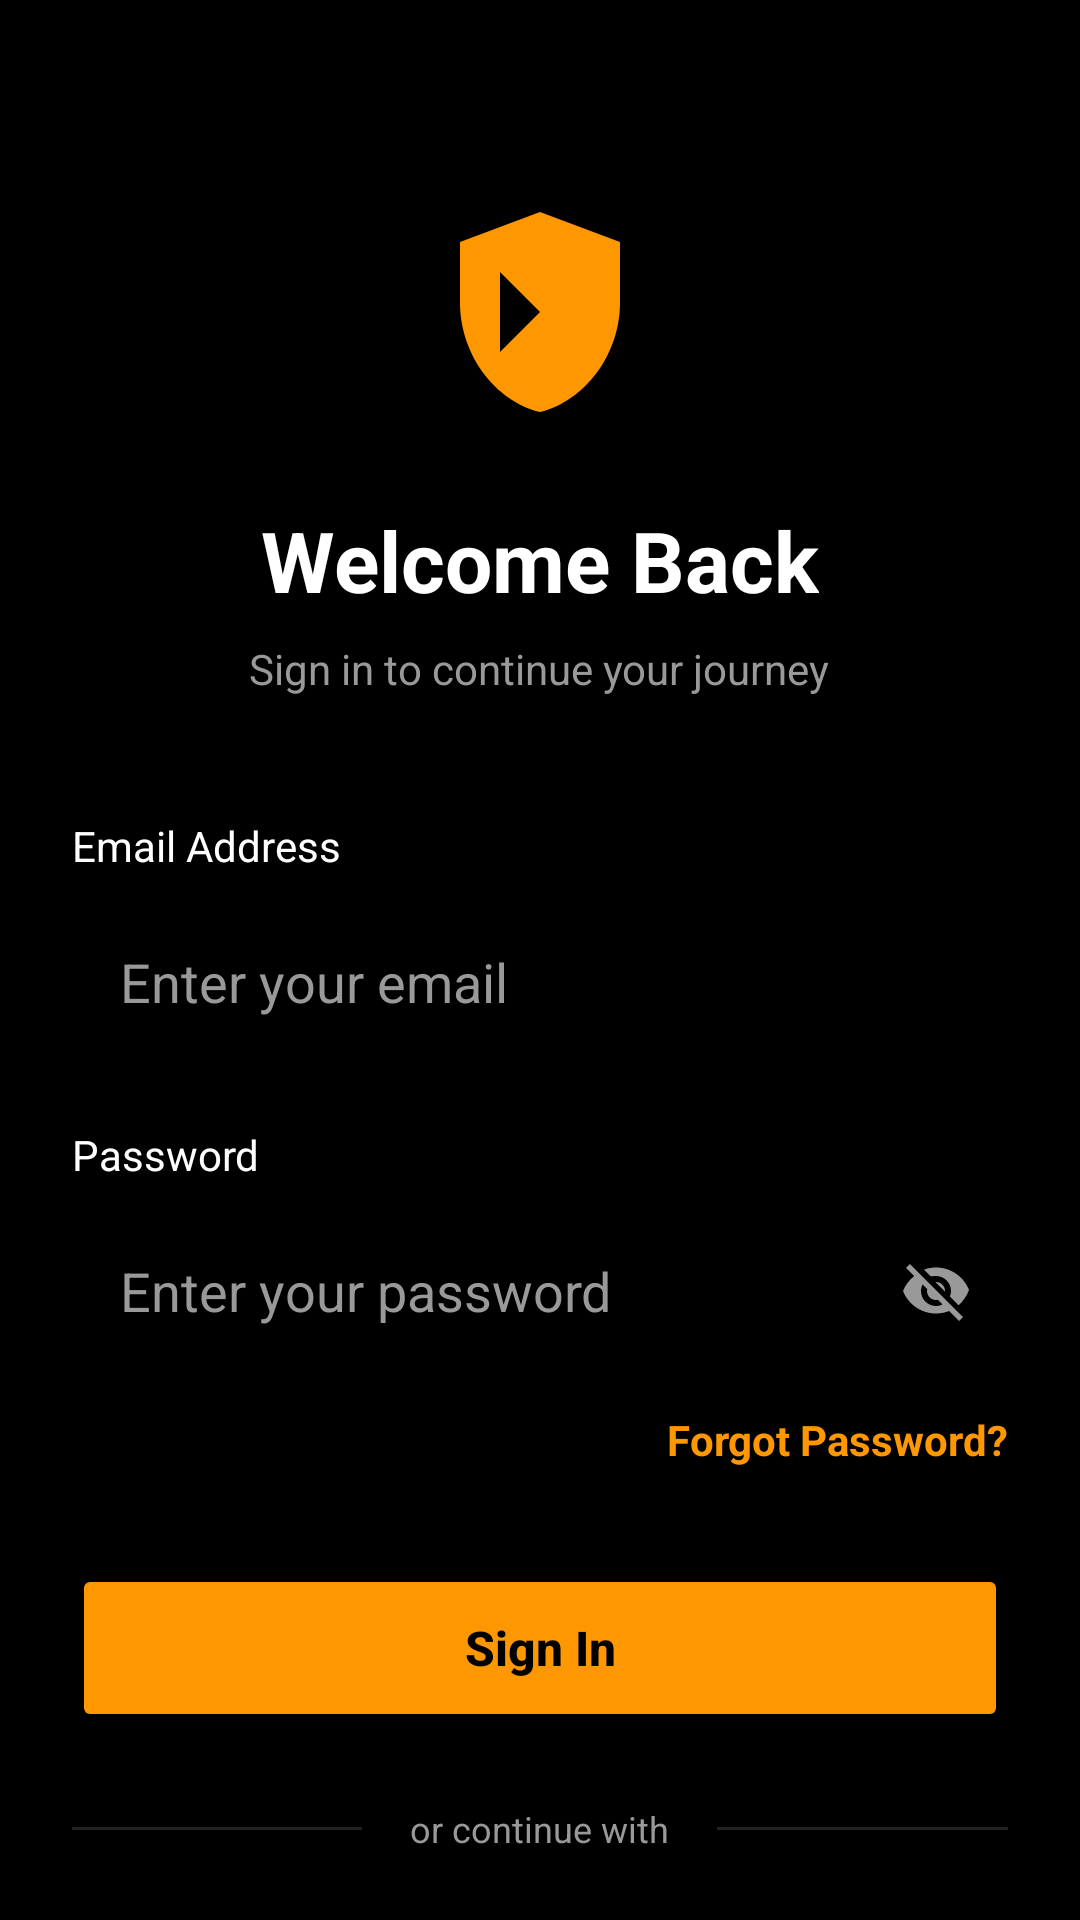

Screen size 1080px×1920px. Icon name, then its box in pixels as (x1, y1, x2, y2):
eye off: (903, 1264, 969, 1321)
